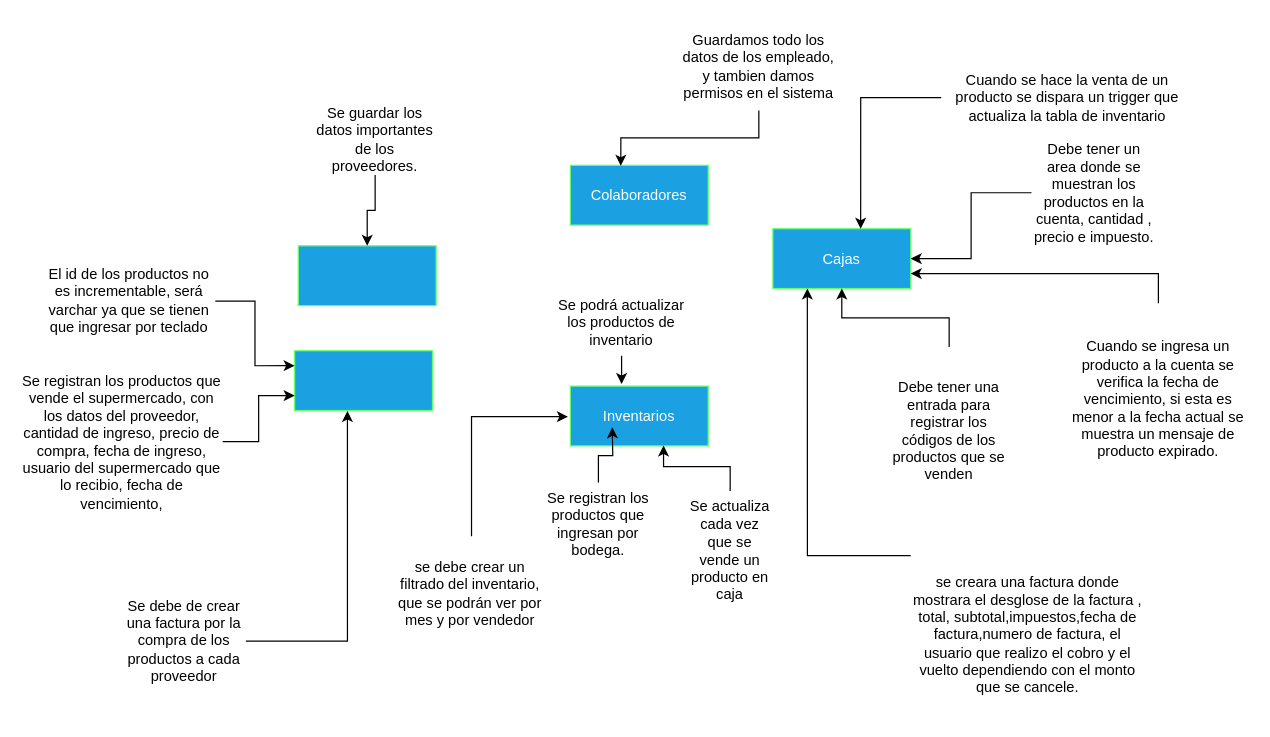
Some shapes in this 1270 by 737 pixel diagram are drawn without their labels. Here are the shapes that lost their labels. From the top down, the box of each, then its label:
(297, 245, 436, 306): Proveedores
(293, 350, 432, 411): RegistroProductos
